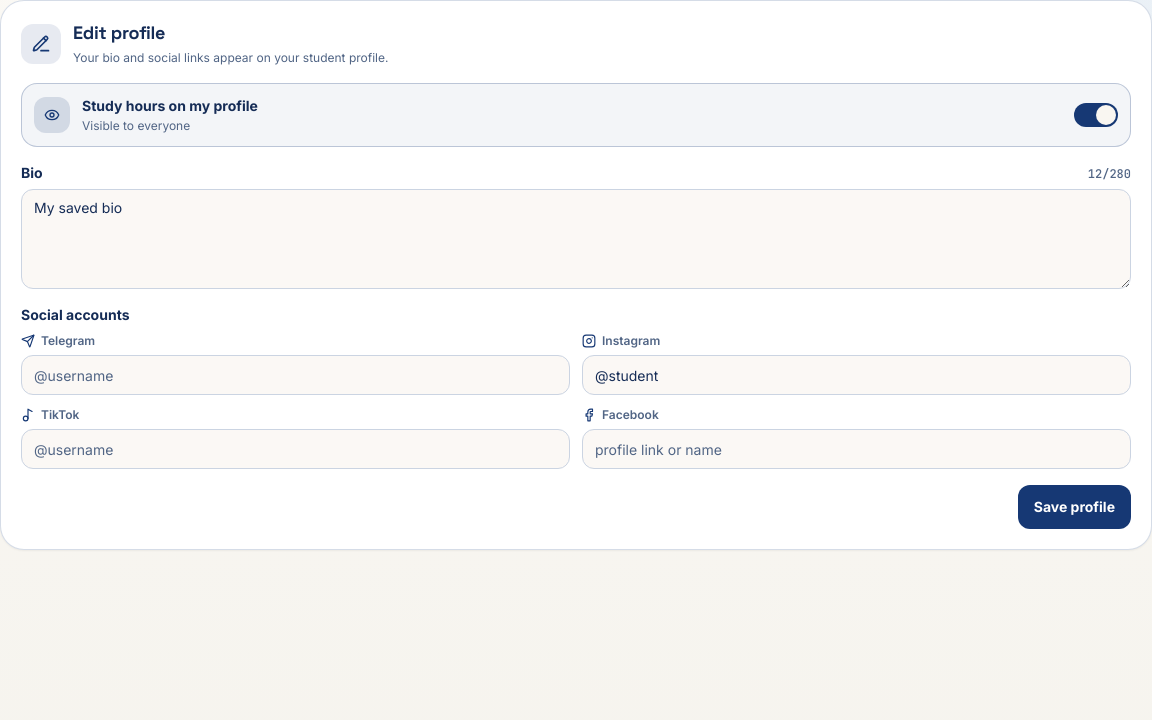
it: profile bio editing › does not report success when an update affects no profile
Expected: the text box labelled "Bio" is shown, x1=21 y1=189 x2=1131 y2=289
Click the button "Save profile". click: [1074, 507]
box: x1=1018 y1=485 x2=1131 y2=529
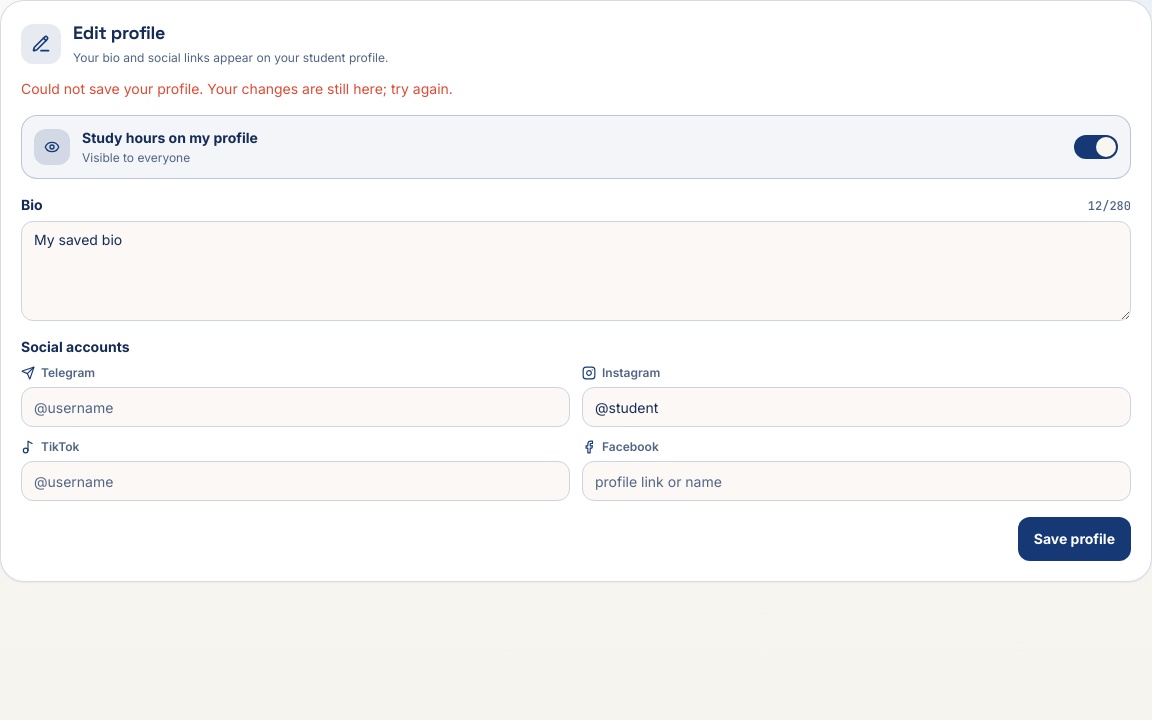
Result: the message "Could not save your profile. Your changes are still here; try again." is shown at x1=21 y1=80 x2=453 y2=97
